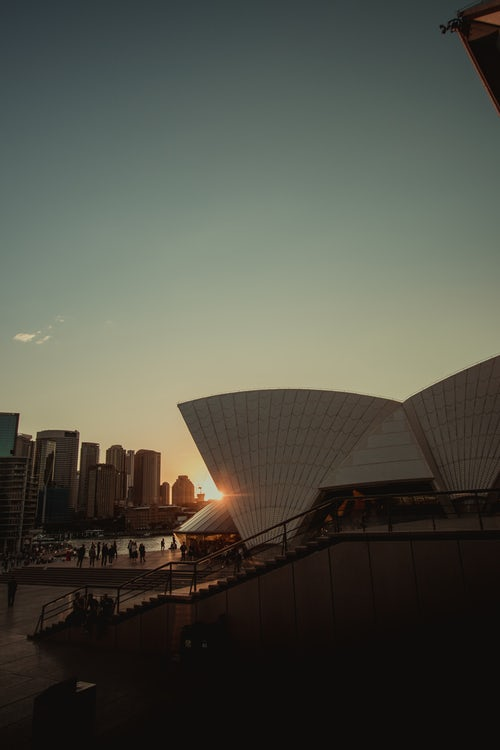opera house: (116, 333, 500, 571)
